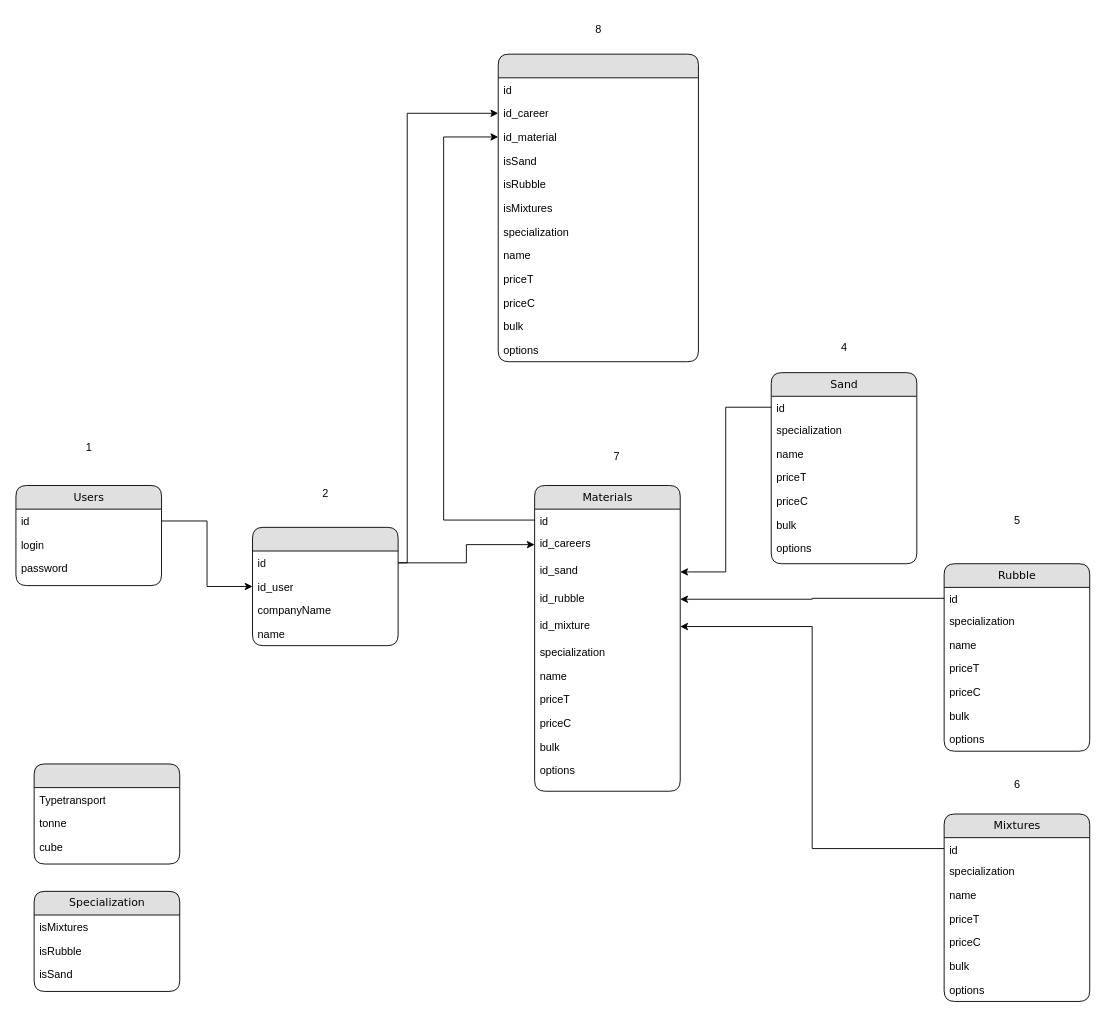
The diagram is 1106 pixels wide and 1019 high, and some of its shapes have lost their labels. Here are the shapes that lost their labels. From the top down, the box of each, then its label:
(497, 53, 698, 362): total
(252, 526, 398, 646): Careers
(33, 763, 180, 864): Prices
